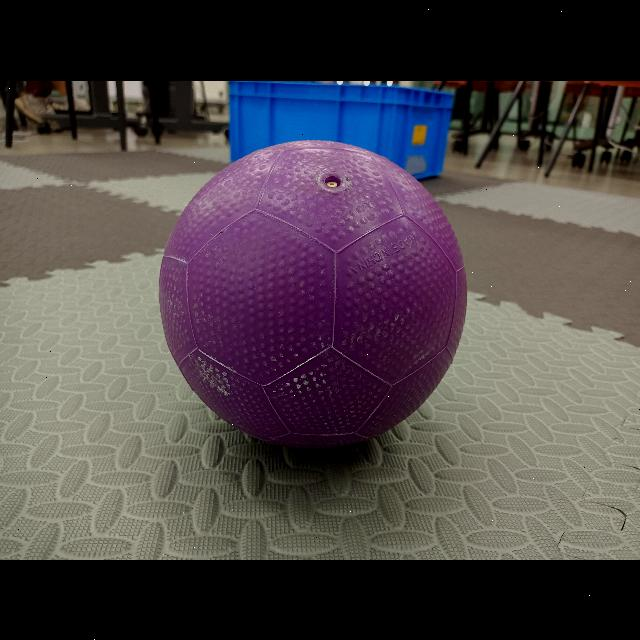P: (162, 138, 466, 452)
